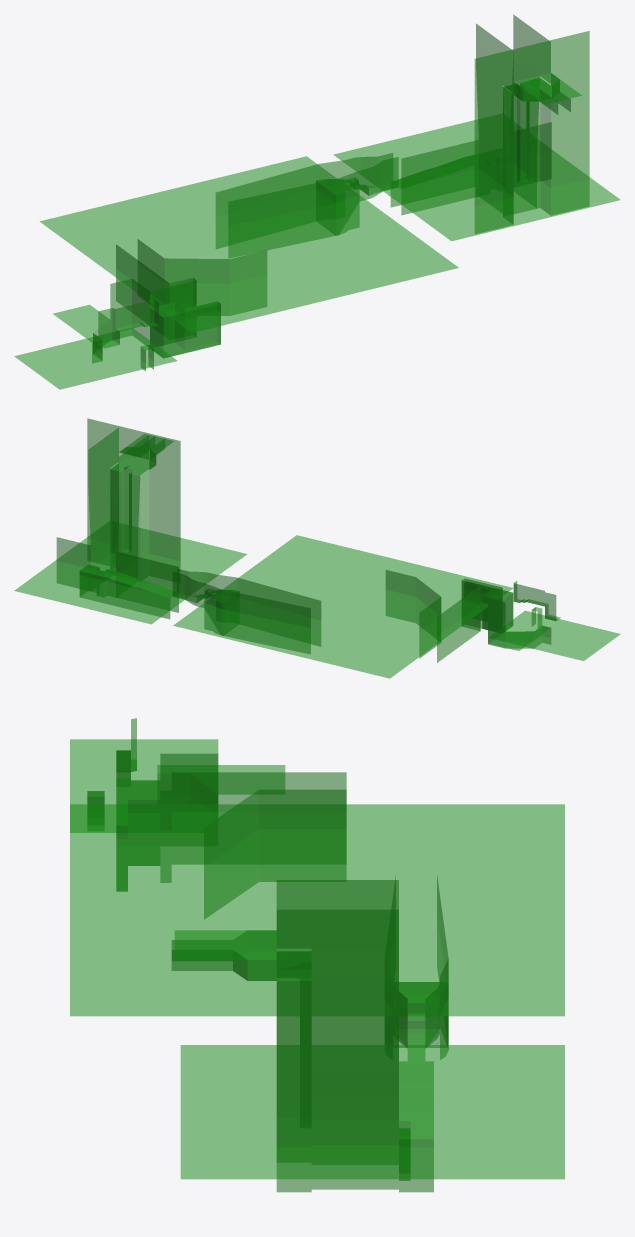
Rendered from hit_D.obj.
3 views of the same model, one above another, from view 1: azimuth 30°, elevation 25°; view 2: azimuth 150°, elevation 25°; view 3: azimuth 270°, elevation 25° (orthographic). The views are drawn at different scales.
Bounding box in the file's own units: 383 × 108 × 170.
